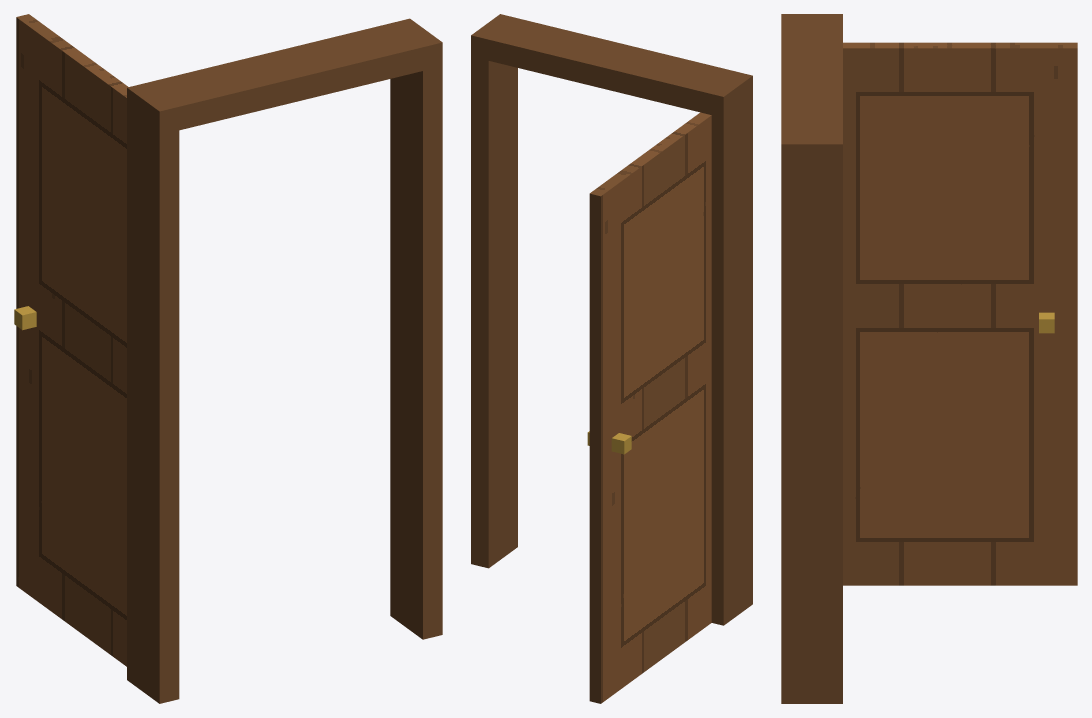
File: t_door_o.glb
3 renders of one model, left to right at view 1: azimuth 30°, elevation 25°; view 2: azimuth 150°, elevation 25°; view 3: azimuth 270°, elevation 25°, orthographic. The views are drawn at different scales.
Parts seen in each view (by area): view 1: block_panel, block_jamb-1, block_jamb1, block_head; view 2: block_panel, block_jamb1, block_jamb-1, block_head; view 3: block_panel, block_jamb1, block_head, block_jamb-1.
Boxes of the visible parts, box(x1,y1,x2,y2) form: block_panel: box(16, 14, 128, 666); block_jamb-1: box(127, 83, 179, 703); block_jamb1: box(390, 18, 442, 639); block_head: box(147, 23, 422, 130); block_panel: box(589, 112, 711, 703); block_jamb1: box(471, 14, 517, 568); block_jamb-1: box(706, 71, 752, 625); block_head: box(488, 18, 734, 113); block_panel: box(843, 42, 1077, 585); block_jamb1: box(781, 135, 842, 703); block_head: box(781, 23, 842, 135); block_jamb-1: box(781, 14, 842, 22).
Bounding box in the file's own units: 1 × 2 × 0.96.
2 materials, 2 textured.
